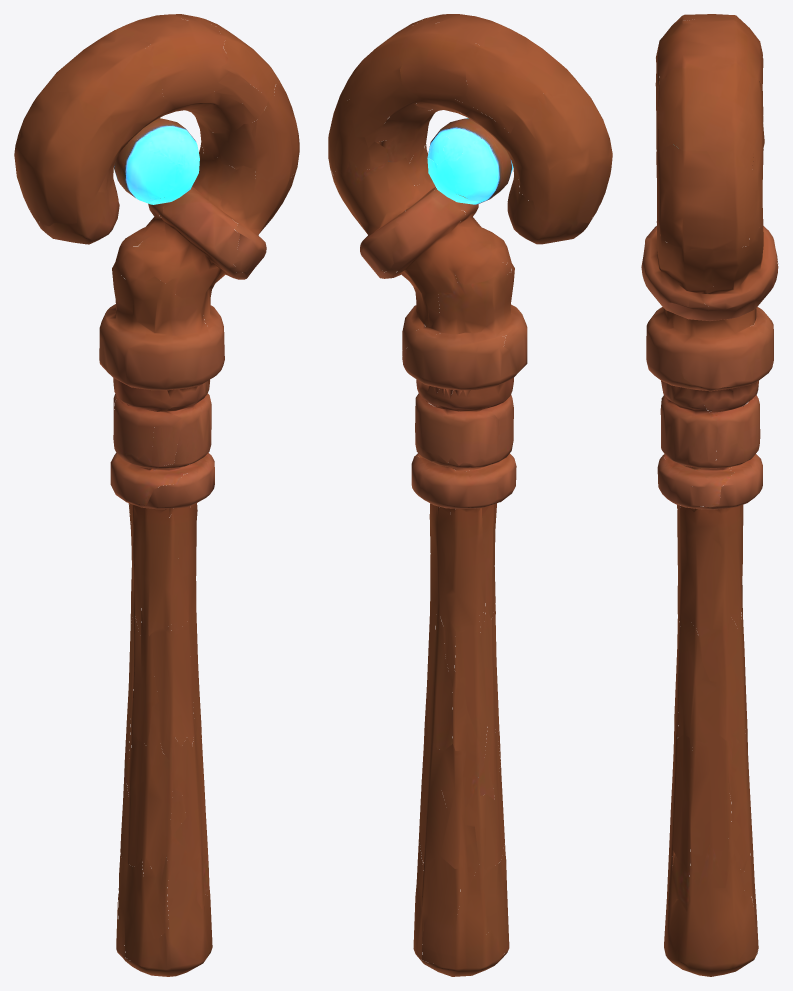
Rendered from Arm_apprentice_staff-HvaF1N_R.glb.
The picture shows the model from 3 angles, left to right: view 1: azimuth 30°, elevation 25°; view 2: azimuth 150°, elevation 25°; view 3: azimuth 270°, elevation 25°; orthographic projection.
Visible parts, largest first — view 1: Arm_apprentice_staff; view 2: Arm_apprentice_staff; view 3: Arm_apprentice_staff.
Boxes of the visible parts, <box> form: Arm_apprentice_staff: <box>14,14,299,976</box>; Arm_apprentice_staff: <box>328,14,612,976</box>; Arm_apprentice_staff: <box>641,14,778,976</box>.
Bounding box in the file's own units: 0.6619 × 2.3 × 0.3051.
1 material, 1 textured.
